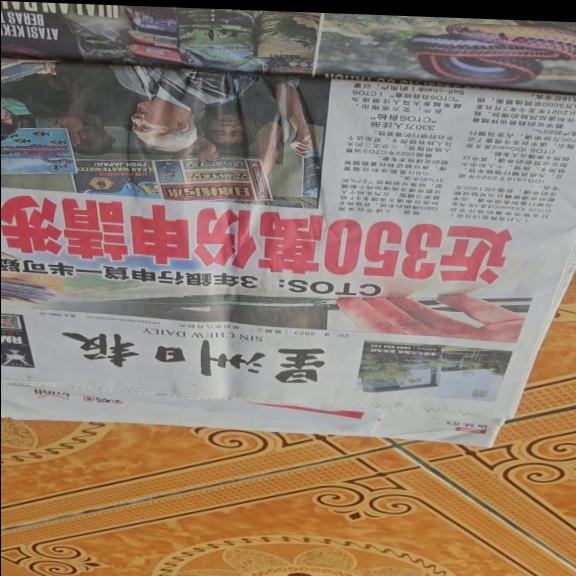Kertas: (11, 70, 493, 441)
